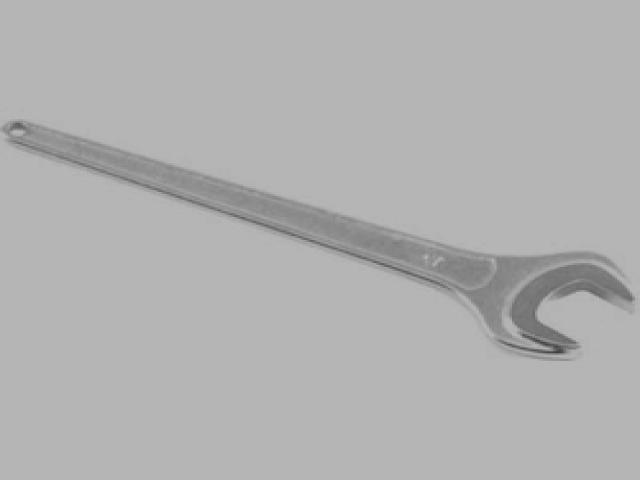Wrench: (4, 123, 632, 357)
